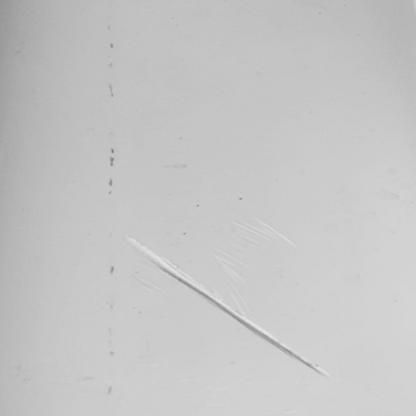sunshang: (127, 239, 328, 379)
